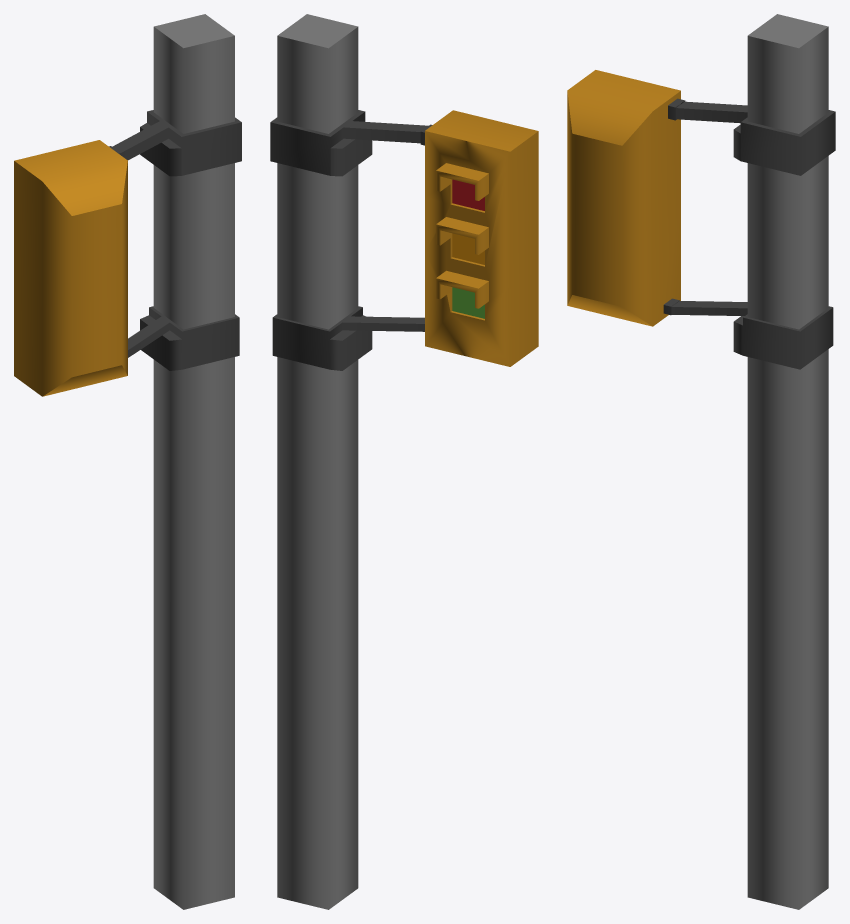
File: trafficlightV4.fbx
3 views of the same model, side by side, from view 1: azimuth 30°, elevation 25°; view 2: azimuth 150°, elevation 25°; view 3: azimuth 330°, elevation 25° (orthographic).
Parts seen in each view (by area): view 1: pCube9; view 2: pCube9; view 3: pCube9.
Boxes of the visible parts, x1,y1,x2,y2 form: pCube9: (14,14,241,909); pCube9: (270,14,538,909); pCube9: (567,14,835,909).
Size of the model in its own units: 1.05 by 4 by 0.5393.
